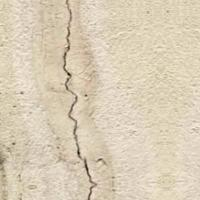crack: (55, 0, 121, 199)
